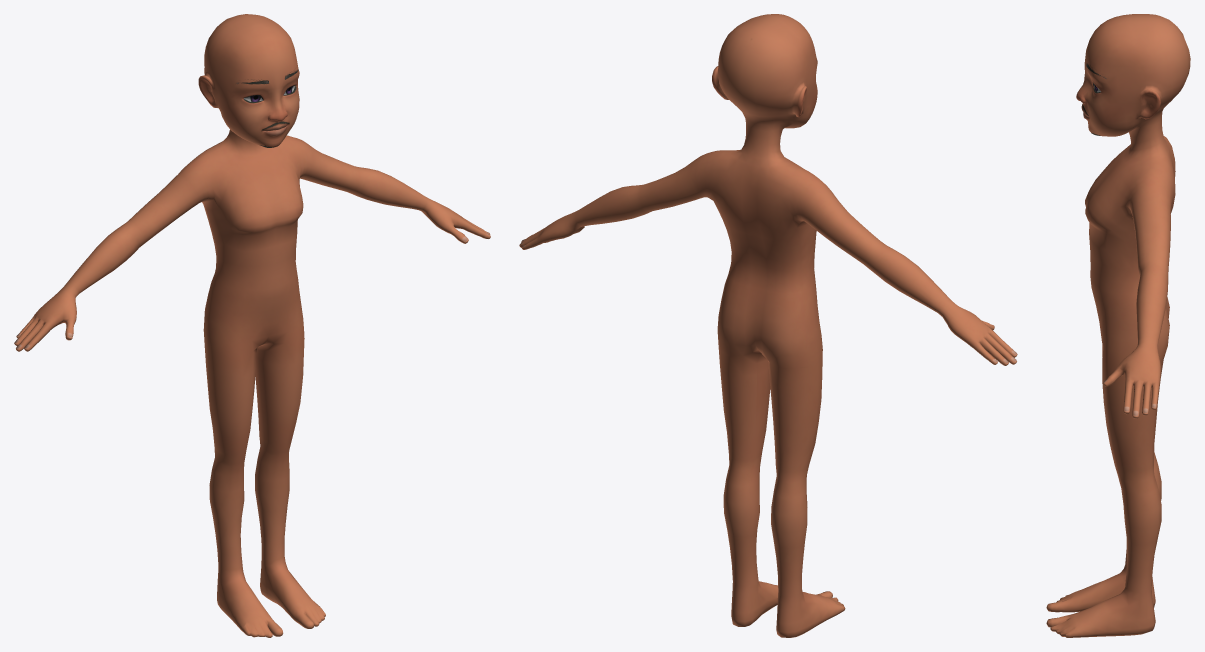
File: frame_0034.glb
The picture shows the model from 3 angles, left to right: view 1: azimuth 30°, elevation 25°; view 2: azimuth 150°, elevation 25°; view 3: azimuth 270°, elevation 25°; orthographic projection. The views are drawn at different scales.
Parts seen in each view (by area): view 1: frame_0034_head_geo; view 2: frame_0034_head_geo; view 3: frame_0034_head_geo.
Part boxes in pixels (left/top/right/bottom): frame_0034_head_geo: left=14, top=14, right=490, bottom=637; frame_0034_head_geo: left=519, top=14, right=1017, bottom=637; frame_0034_head_geo: left=1046, top=14, right=1190, bottom=637.
Bounding box in the file's own units: 1.28 × 1.5 × 0.3253.
Materials: 3 (3 with a texture image).
